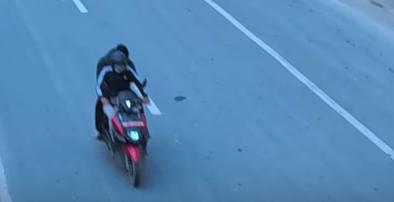scooter: (91, 78, 155, 189)
